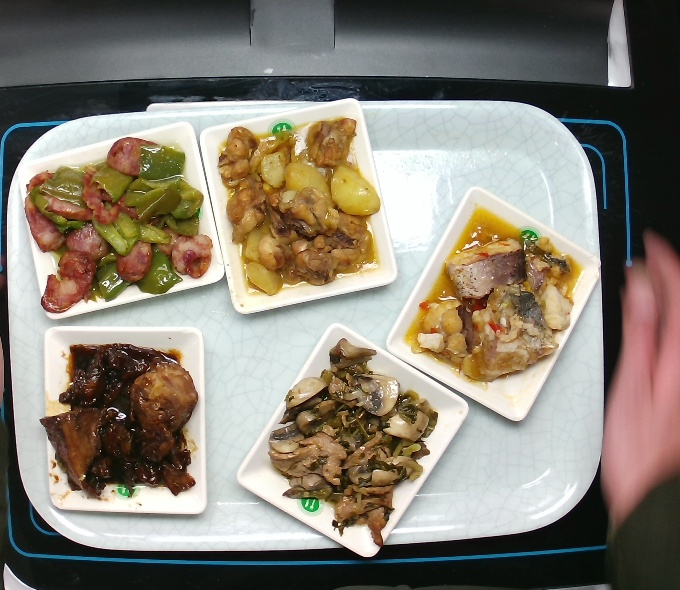wcq-JiangZhiYa: (39, 342, 199, 497)
wcq-MoGuRouPian: (264, 336, 439, 552)
wcq-QingJiaoXiangChang: (23, 136, 213, 314)
wcq-SuanCaiYu: (406, 204, 584, 383)
wcq-TuDouJiKuai: (214, 117, 380, 294)
